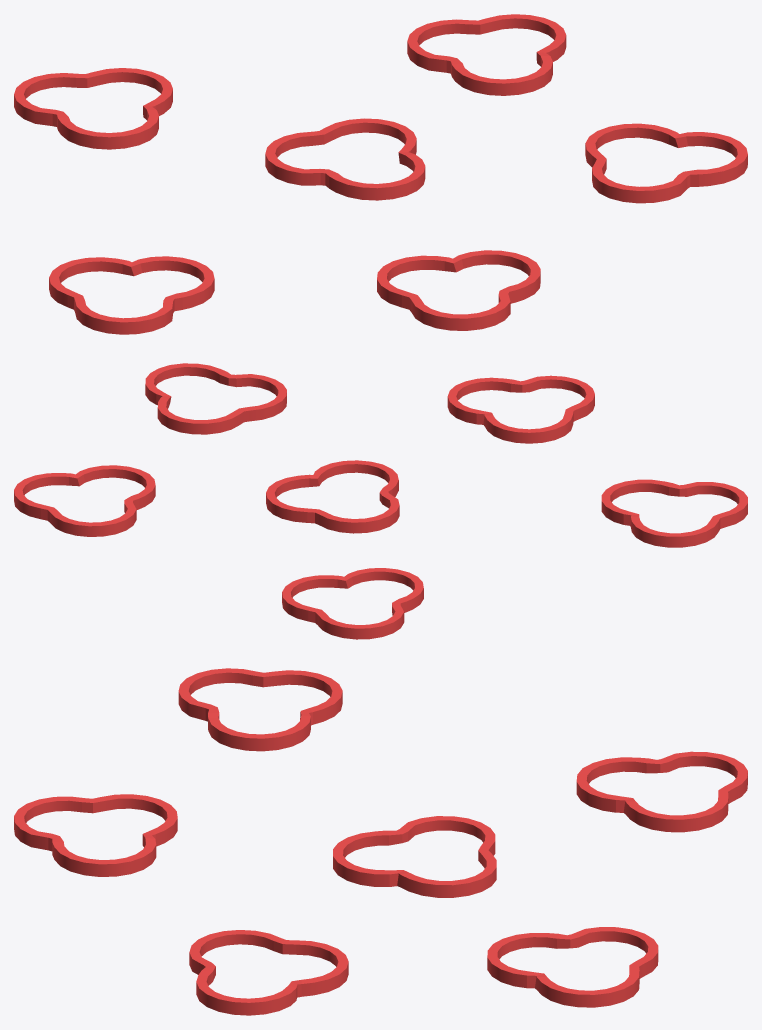
Rendered from pepper.glb.
3 views of the same model, one above another, from view 1: azimuth 30°, elevation 25°; view 2: azimuth 150°, elevation 25°; view 3: azimuth 270°, elevation 25° (orthographic). The views are drawn at different scales.
Parts seen in each view (by area): view 1: pepper11; view 2: pepper11; view 3: pepper11.
Part boxes in pixels (<box>): pepper11: <box>14,14,747,334</box>; pepper11: <box>14,363,747,639</box>; pepper11: <box>14,668,747,1015</box>.
Size of the model in its own units: 0.3069 by 0.00559 by 0.2845.
